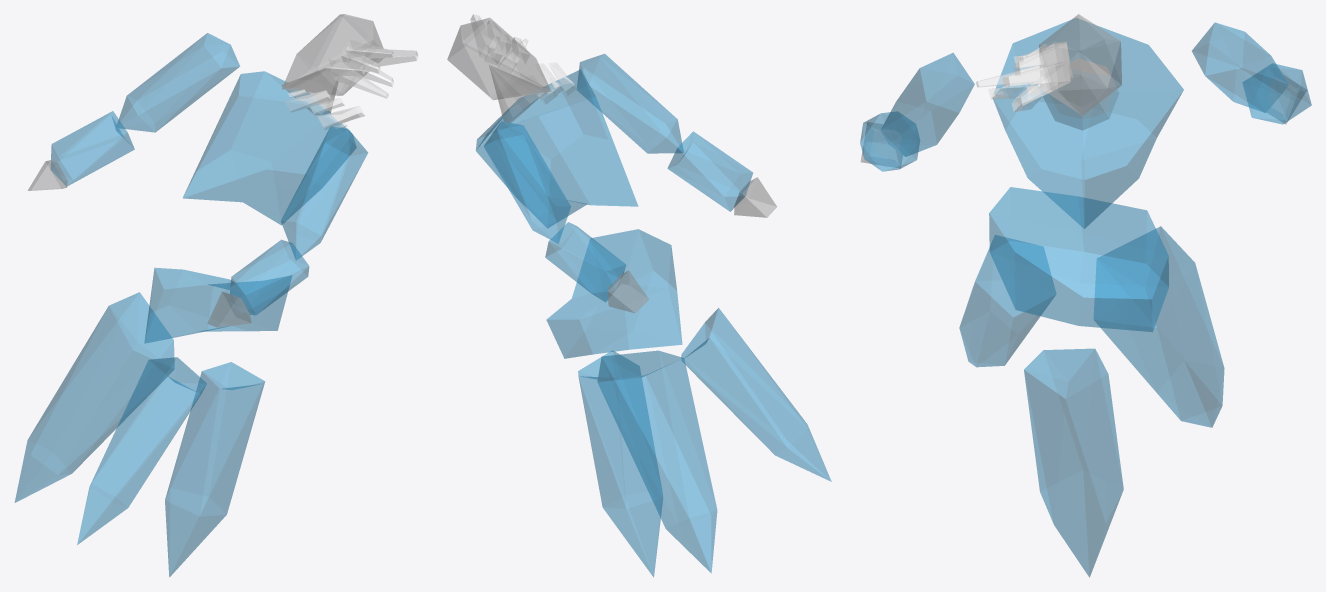
File: ghostChargingLunge14.obj
3 views of the same model, side by side, from view 1: azimuth 30°, elevation 25°; view 2: azimuth 150°, elevation 25°; view 3: azimuth 270°, elevation 25° (orthographic). The views are drawn at different scales.
Parts seen in each view (by area): view 1: Cube.001_Cube.006, Icosphere.017, Icosphere.016, Icosphere.015, Cube_Cube.006, Icosphere.007_Icosphere.005, Icosphere.005_Icosphere.005, Icosphere.003_Icosphere.006, Icosphere.006_Icosphere.005, Icosphere.008_Icosphere.005, Cone_Cone.006, Cube.002_Cube.006 (+7 smaller); view 2: Cube.001_Cube.006, Icosphere.017, Cube_Cube.006, Icosphere.016, Icosphere.015, Icosphere.005_Icosphere.005, Icosphere.007_Icosphere.005, Icosphere.003_Icosphere.006, Icosphere.006_Icosphere.005, Icosphere.008_Icosphere.005, Cone_Cone.006, Cube.002_Cube.006 (+2 smaller); view 3: Cube.001_Cube.006, Cube_Cube.006, Icosphere.017, Icosphere.016, Icosphere.015, Icosphere.003_Icosphere.006, Icosphere.005_Icosphere.005, Icosphere.007_Icosphere.005, Cone_Cone.006, Icosphere.008_Icosphere.005, Icosphere.006_Icosphere.005, Cube.002_Cube.006 (+5 smaller).
Boxes of the visible parts, <box> form: Cube.001_Cube.006: <box>183,71,356,225</box>; Icosphere.017: <box>14,292,174,502</box>; Icosphere.016: <box>165,362,264,577</box>; Icosphere.015: <box>77,357,206,544</box>; Cube_Cube.006: <box>144,267,291,343</box>; Icosphere.007_Icosphere.005: <box>116,33,239,132</box>; Icosphere.005_Icosphere.005: <box>281,126,367,259</box>; Icosphere.003_Icosphere.006: <box>282,14,383,95</box>; Icosphere.006_Icosphere.005: <box>229,239,309,315</box>; Icosphere.008_Icosphere.005: <box>51,111,134,186</box>; Cone_Cone.006: <box>282,68,338,115</box>; Cube.002_Cube.006: <box>207,291,251,327</box>; Cube.001_Cube.006: <box>476,69,638,227</box>; Icosphere.017: <box>597,350,717,573</box>; Cube_Cube.006: <box>546,229,682,358</box>; Icosphere.016: <box>578,350,662,577</box>; Icosphere.015: <box>681,308,831,481</box>; Icosphere.005_Icosphere.005: <box>577,54,683,153</box>; Icosphere.007_Icosphere.005: <box>483,121,570,243</box>; Icosphere.003_Icosphere.006: <box>447,17,551,100</box>; Icosphere.006_Icosphere.005: <box>667,131,752,211</box>; Icosphere.008_Icosphere.005: <box>545,222,625,302</box>; Cone_Cone.006: <box>489,65,546,122</box>; Cube.002_Cube.006: <box>734,177,776,217</box>; Cube.001_Cube.006: <box>992,18,1183,228</box>; Cube_Cube.006: <box>989,187,1168,332</box>; Icosphere.017: <box>1094,226,1224,427</box>; Icosphere.016: <box>1024,348,1123,577</box>; Icosphere.015: <box>959,235,1055,367</box>; Icosphere.003_Icosphere.006: <box>1039,14,1121,115</box>; Icosphere.005_Icosphere.005: <box>880,53,974,156</box>; Icosphere.007_Icosphere.005: <box>1192,22,1288,112</box>; Cone_Cone.006: <box>1043,59,1118,130</box>; Icosphere.008_Icosphere.005: <box>1243,63,1311,124</box>; Icosphere.006_Icosphere.005: <box>860,111,919,171</box>; Cube.002_Cube.006: <box>860,122,902,168</box>.
Bounding box in the file's own units: 33.16 × 46.93 × 28.66.
